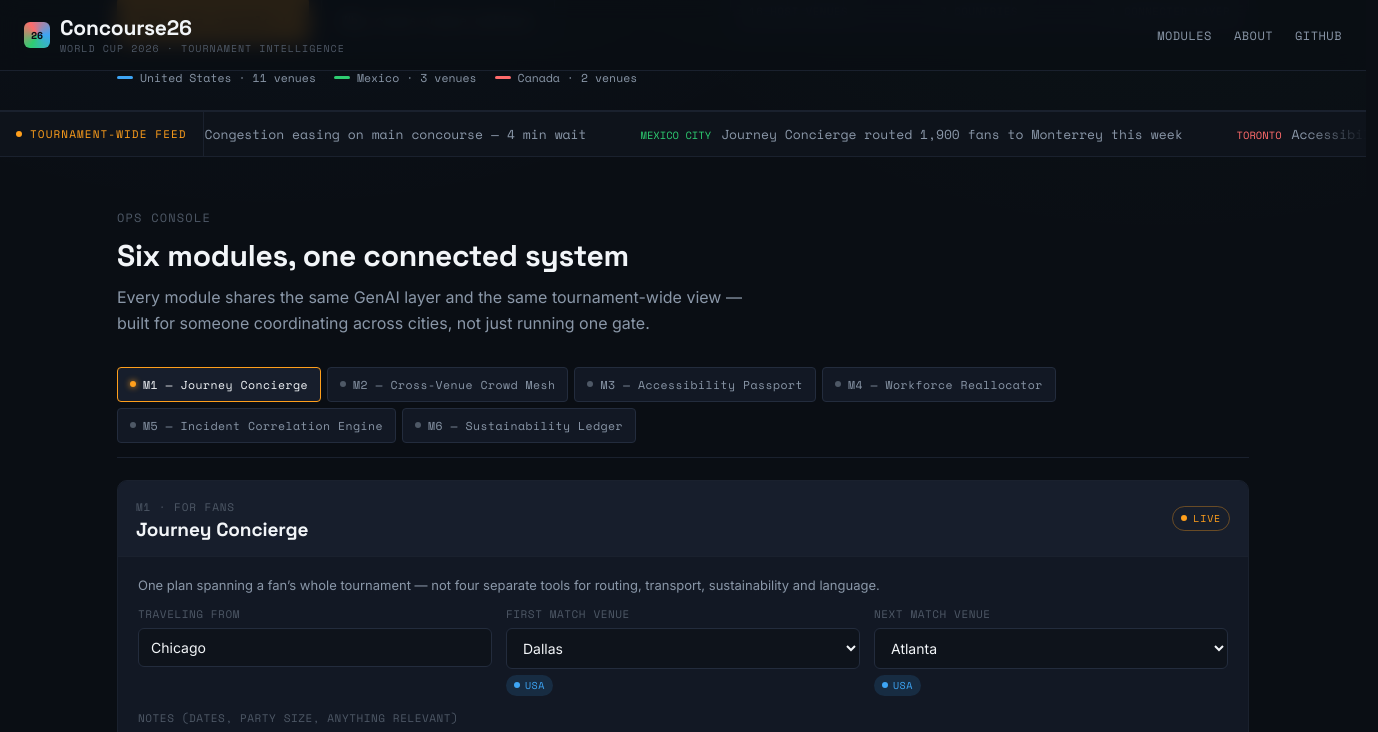
Test: App › switches the active panel when a module tab is clicked
The width and height of the screenshot is (1378, 732).
(page scrolled)
Click the tab "M2 — Cross-Venue Crowd Mesh": (448, 384) [327,366,568,402]
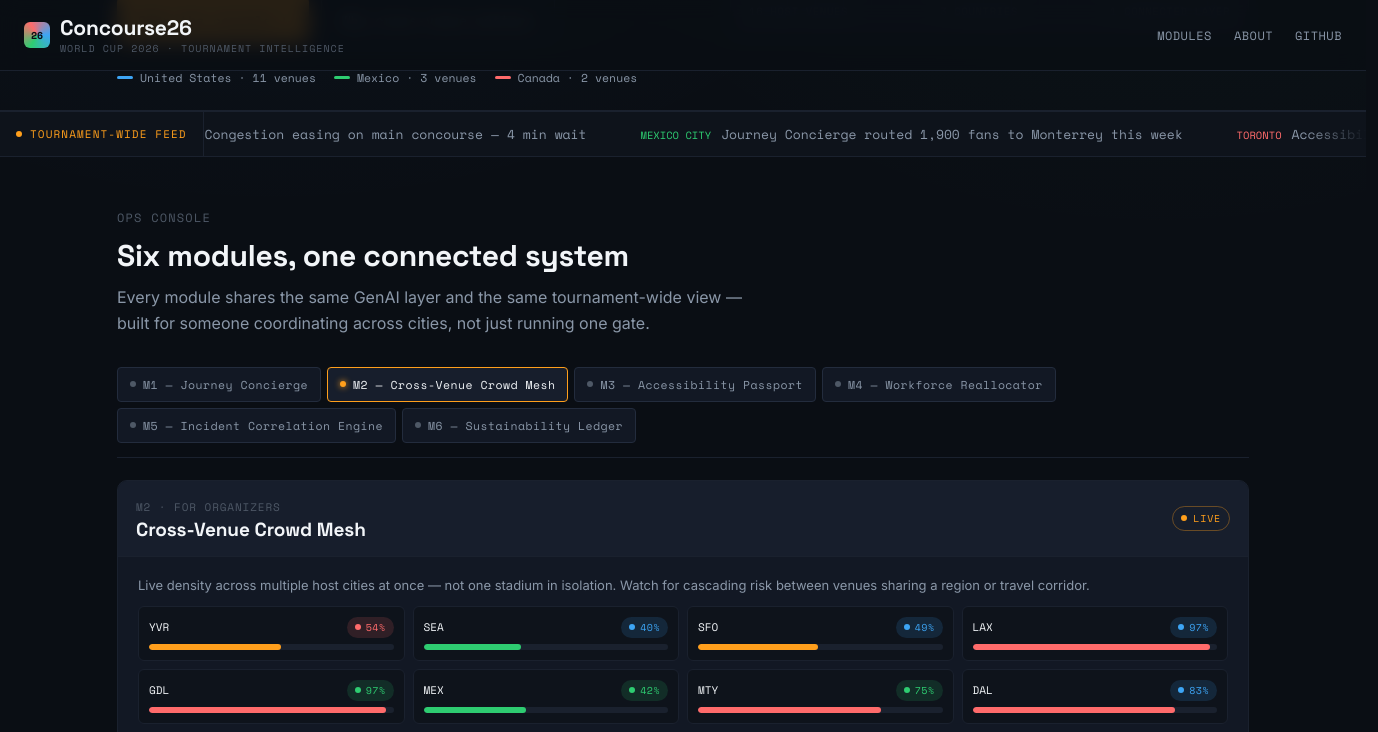
Now the heading "Cross-Venue Crowd Mesh" is shown, box [136,516,366,542]
